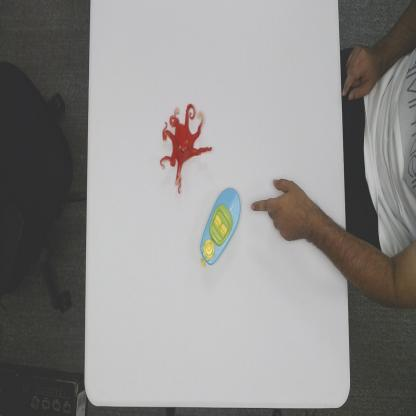Arm: (313, 198, 416, 309)
Boat: (199, 186, 242, 268)
Hand: (249, 176, 312, 244)
Octopus: (158, 102, 212, 196)
